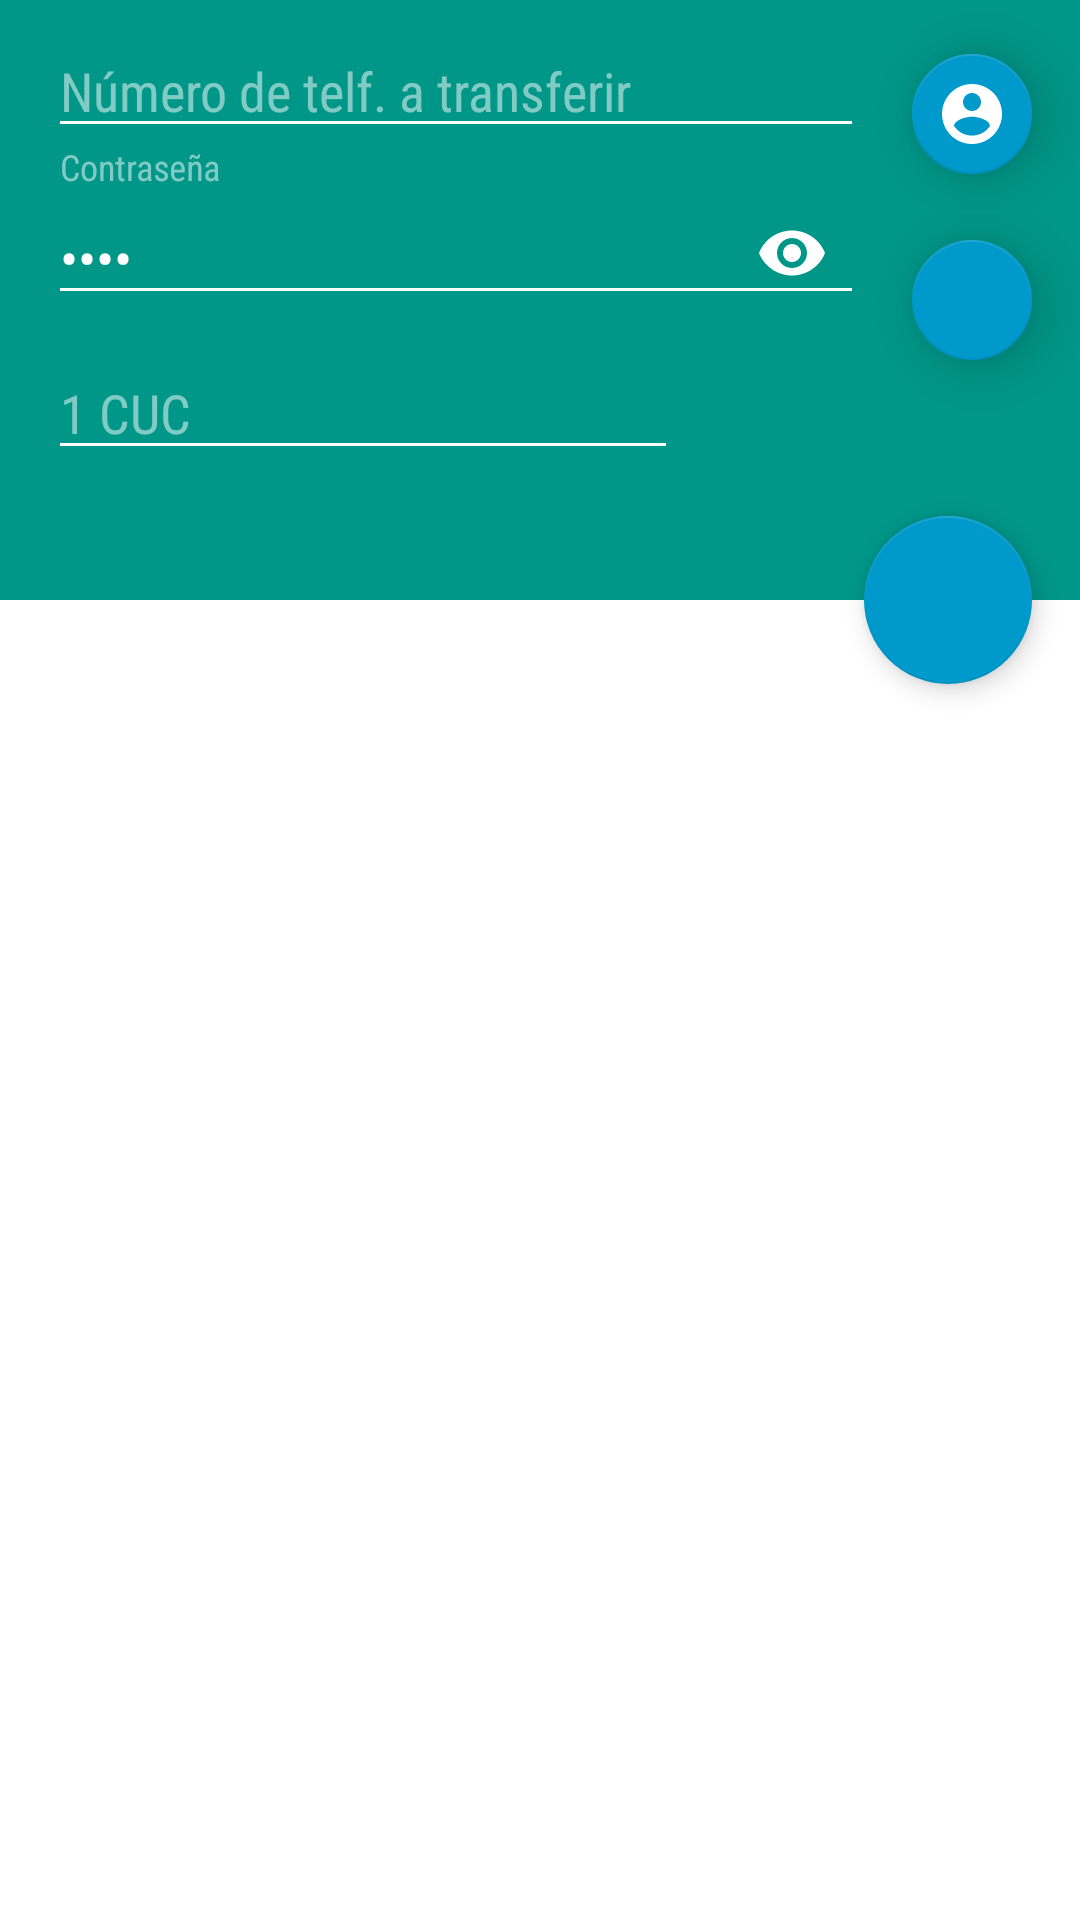

Icons on this 1080×1920 Android screen, each with the point to tap as point (x, y):
account: point (972, 114)
